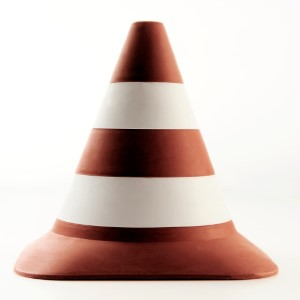traffic cone: (14, 21, 278, 281)
